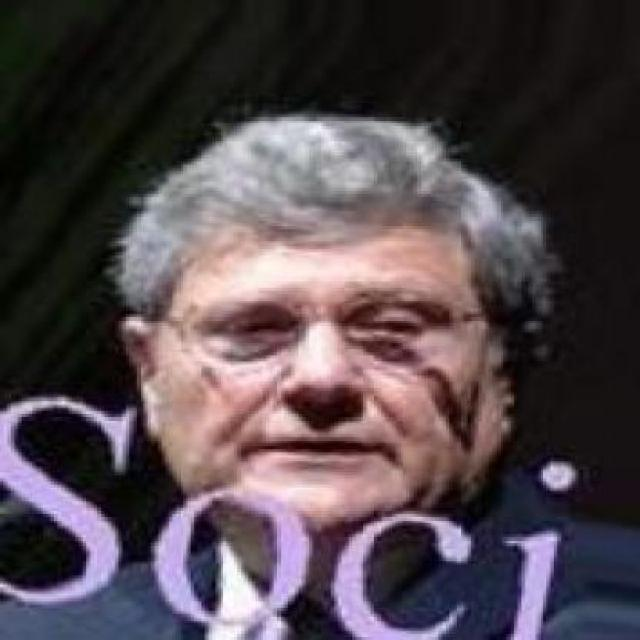closed-mouth: (248, 434, 397, 466)
